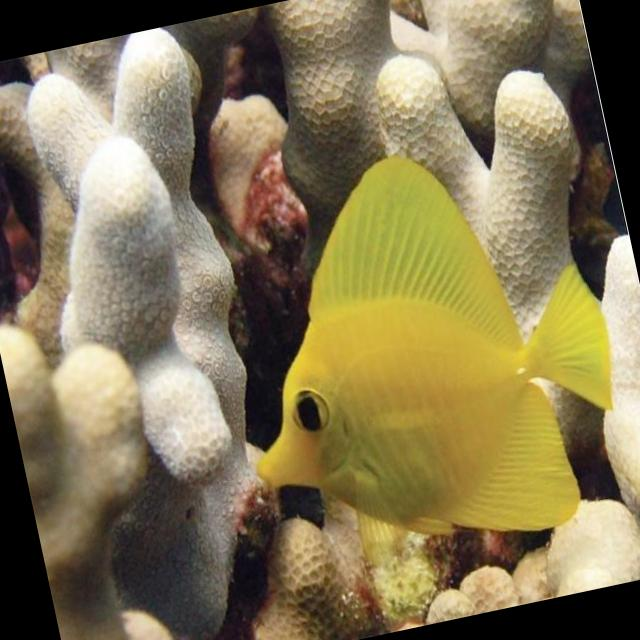TangFish: (186, 117, 640, 594)
